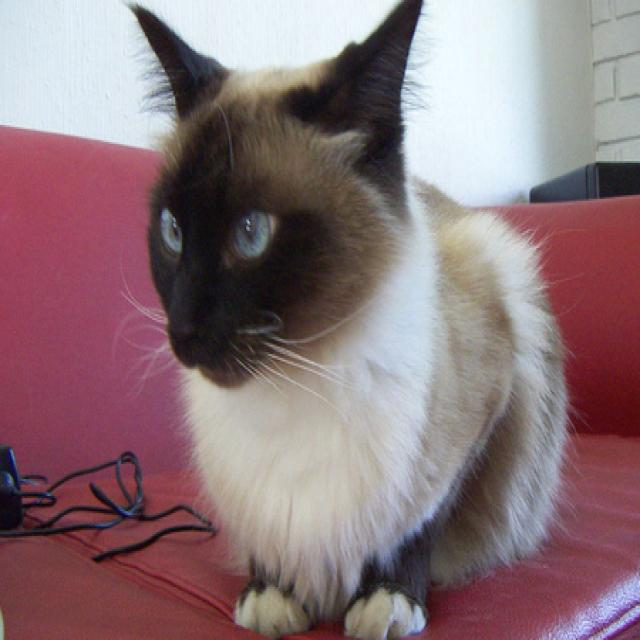Birman: (118, 0, 569, 640)
